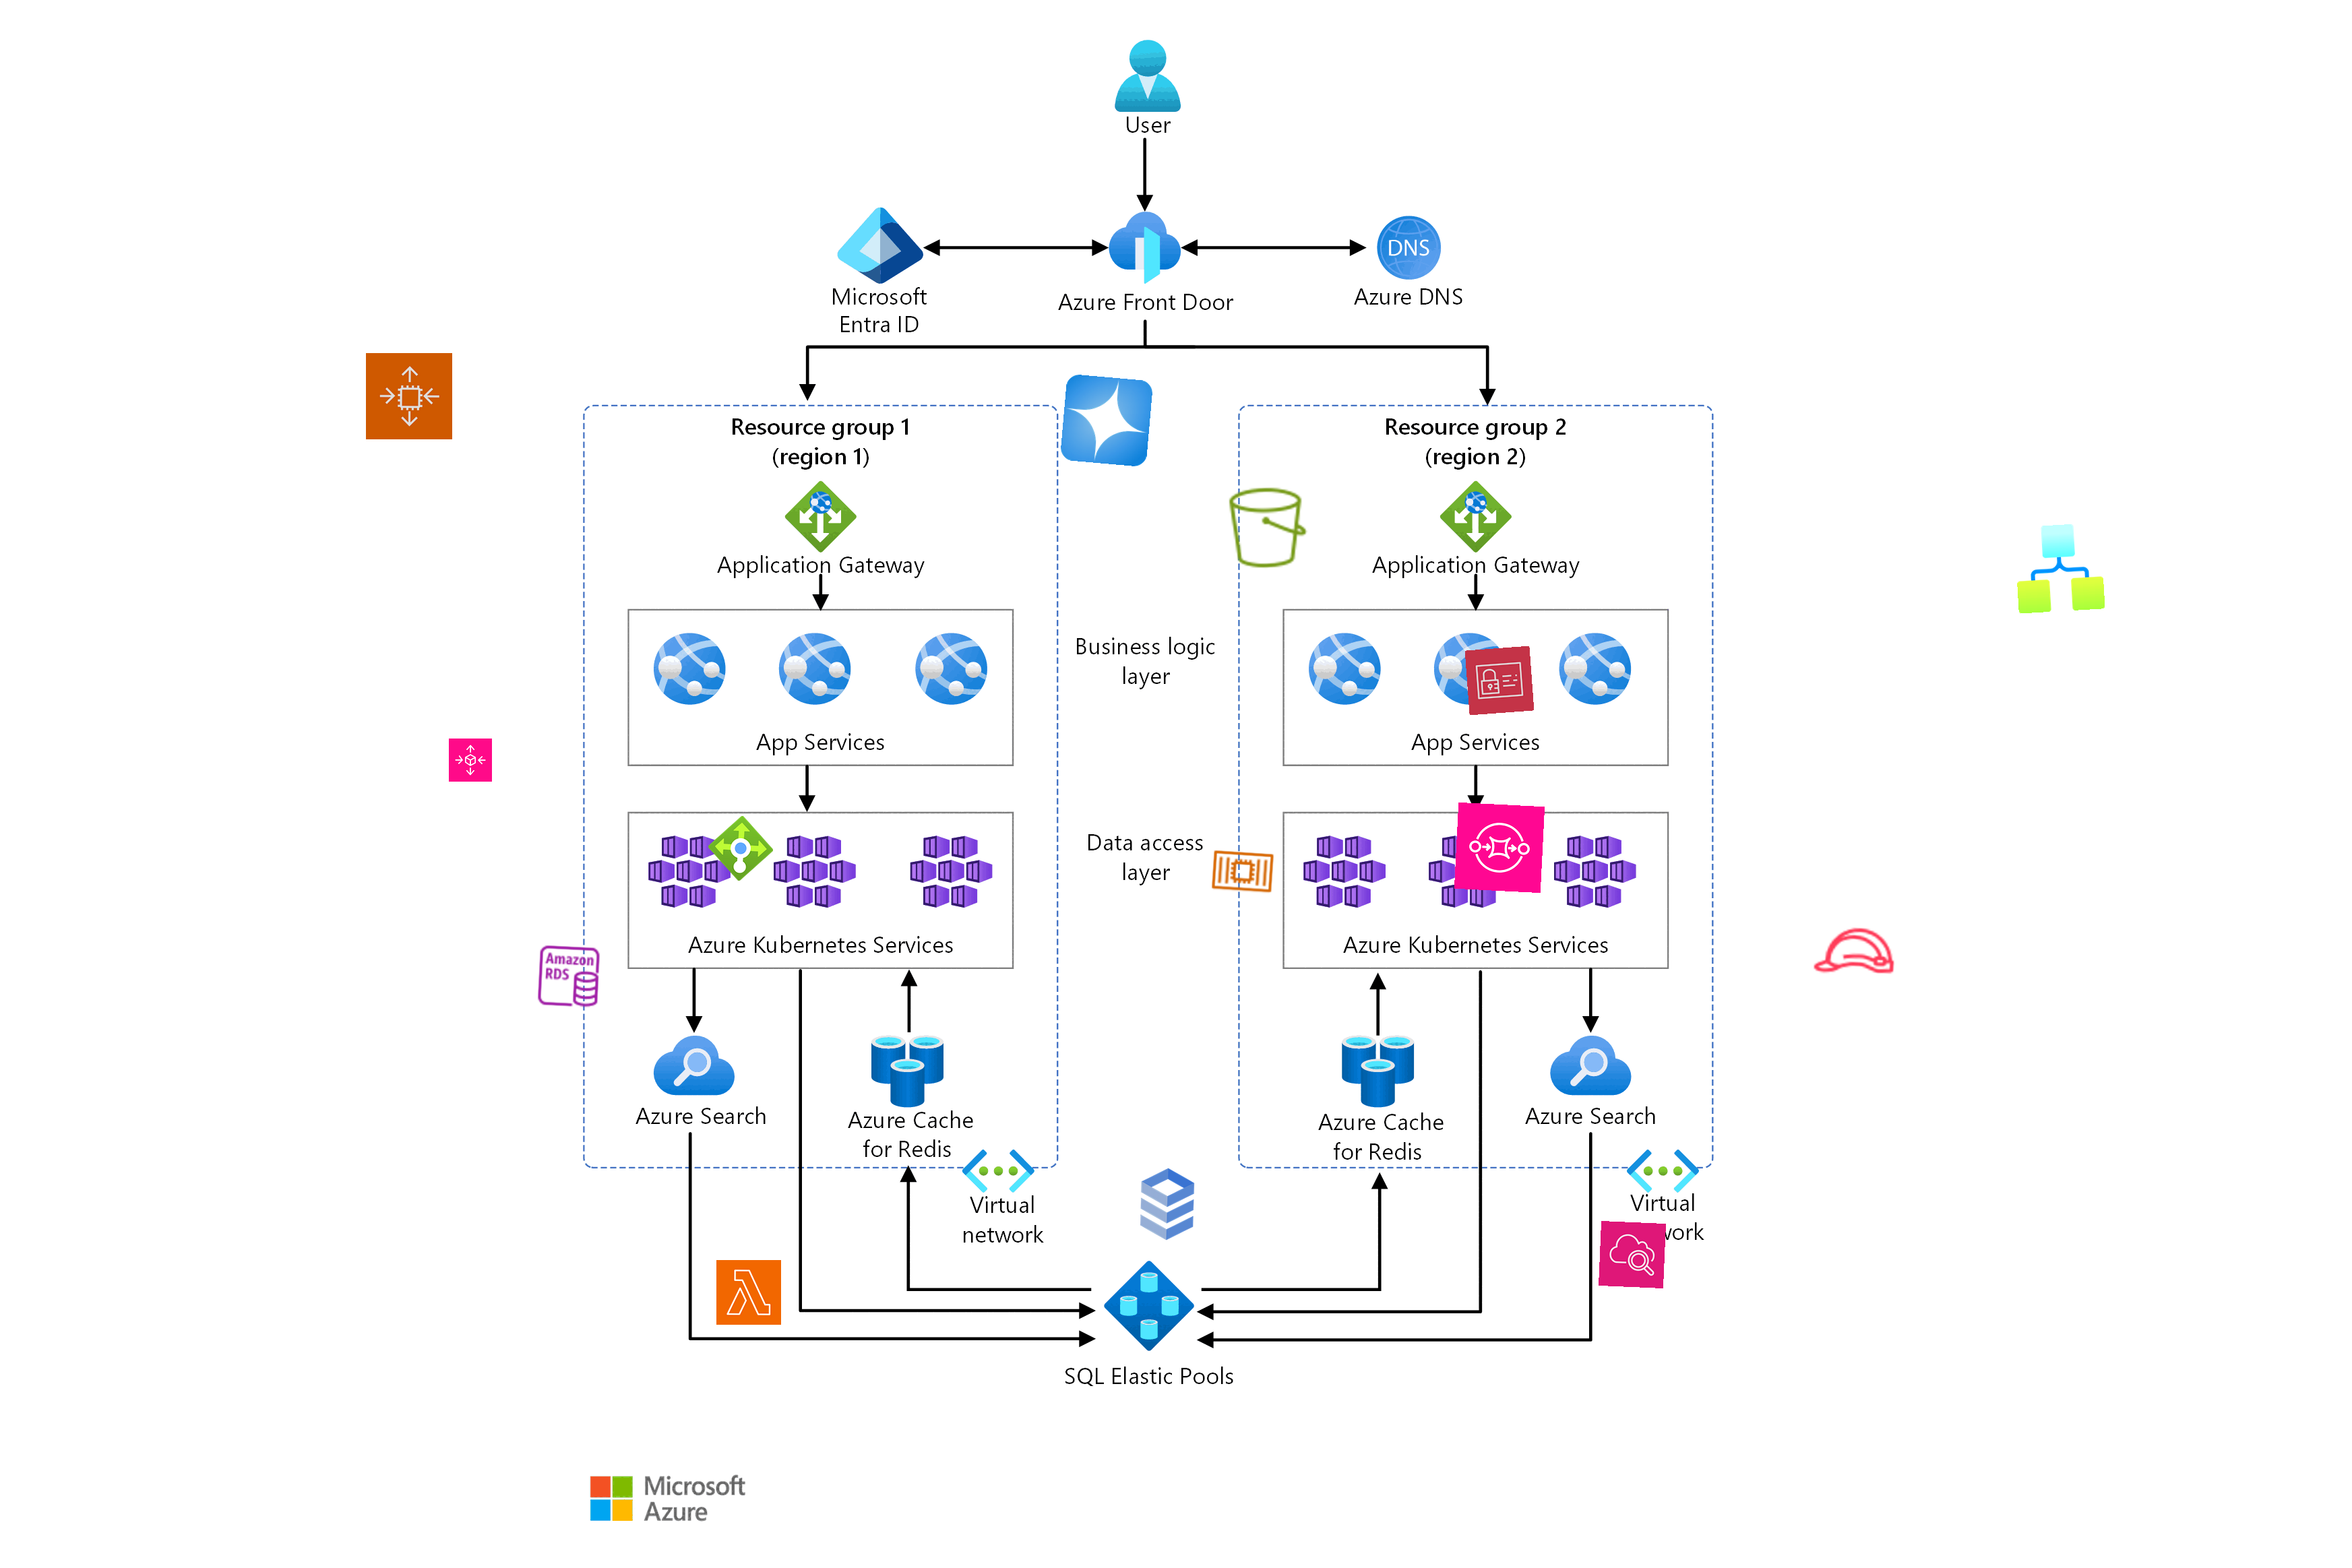aws_amazon_cloudwatch: (1598, 1220, 1666, 1290)
aws_amazon_ec2_auto_scaling: (366, 352, 453, 439)
aws_amazon_simple_queue_service: (1454, 801, 1545, 894)
aws_aurora_amazon_rds_instance: (534, 942, 604, 1012)
aws_auto_scaling: (448, 739, 493, 782)
aws_elastic_container_service_container_2: (1207, 837, 1277, 906)
aws_identity_access_management_role: (1809, 906, 1900, 997)
aws_identity_and_access_management: (1465, 646, 1535, 716)
aws_lambda: (716, 1260, 782, 1325)
aws_simple_storage_service_s3_standard: (1223, 483, 1312, 572)
azure_load_balancers: (707, 814, 775, 882)
azure_logic_apps: (2014, 521, 2105, 614)
azure_openai: (1059, 373, 1153, 467)
gcp_cloud_sql: (1123, 1160, 1211, 1248)
